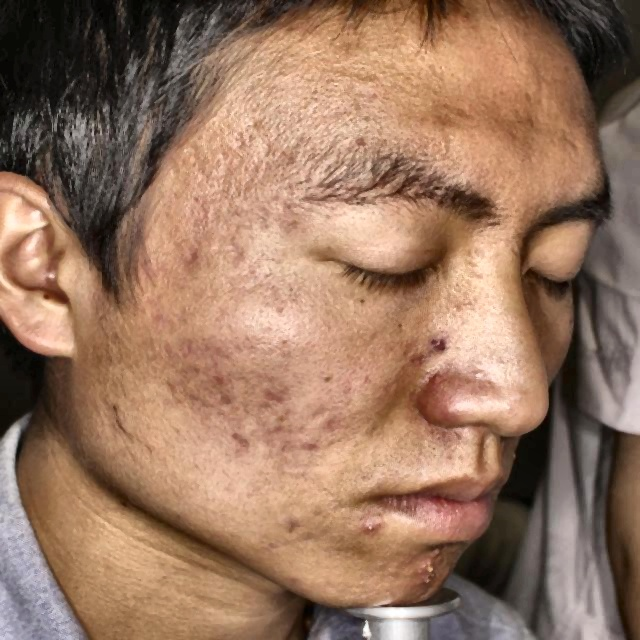pustule: (298, 434, 328, 462), (203, 358, 229, 388), (412, 554, 438, 576), (227, 424, 251, 446), (363, 516, 385, 536), (270, 388, 289, 410), (424, 539, 446, 557), (412, 576, 437, 590)
